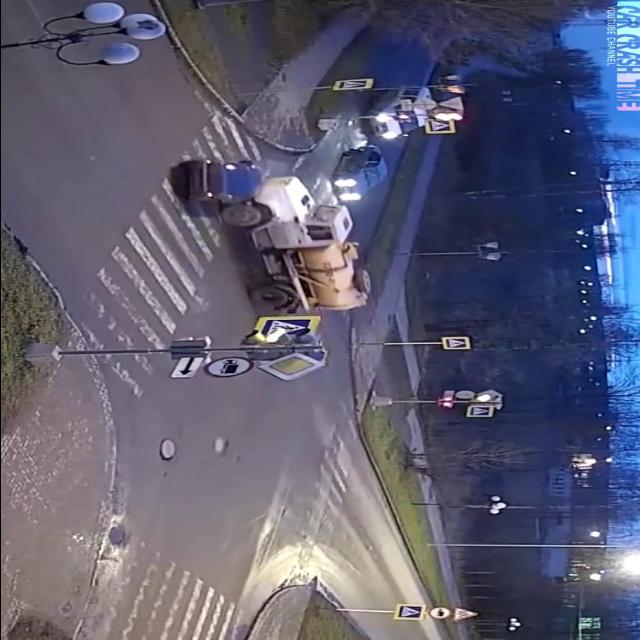accident: (173, 153, 389, 323)
